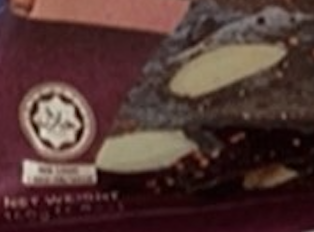halal: (37, 107, 78, 139)
